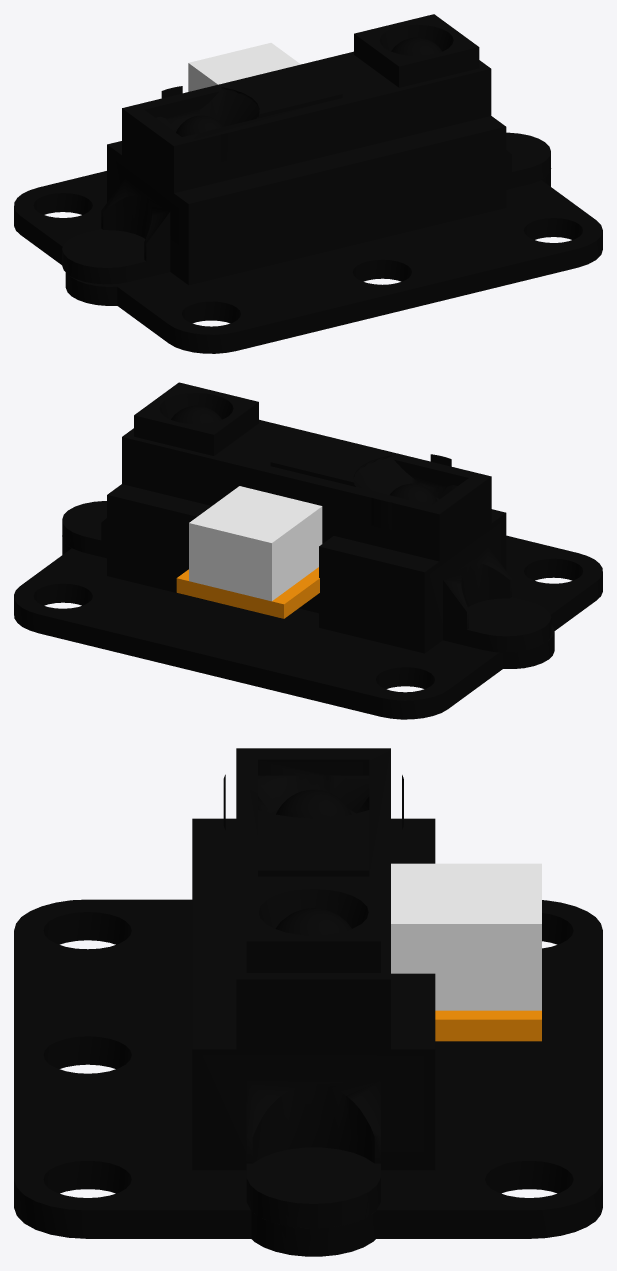
File: electronics_001.obj
3 views of the same model, one above another, from view 1: azimuth 30°, elevation 25°; view 2: azimuth 150°, elevation 25°; view 3: azimuth 270°, elevation 25° (orthographic). The views are drawn at different scales.
Size of the model in its own units: 0.0446 by 0.0151 by 0.032.
